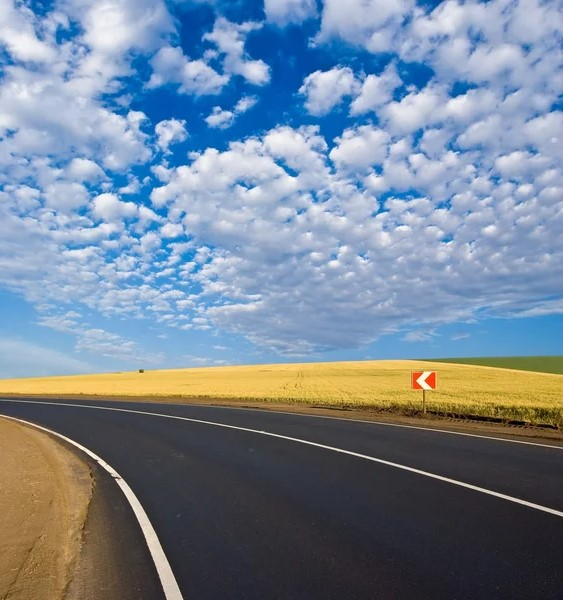leftTrun: (26, 392, 347, 551)
